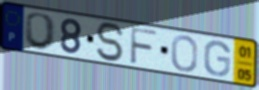8: (59, 17, 83, 56)
F: (128, 25, 159, 67)
G: (202, 39, 232, 78)
O: (22, 11, 58, 52), (170, 34, 200, 74)
S: (94, 21, 127, 64)
